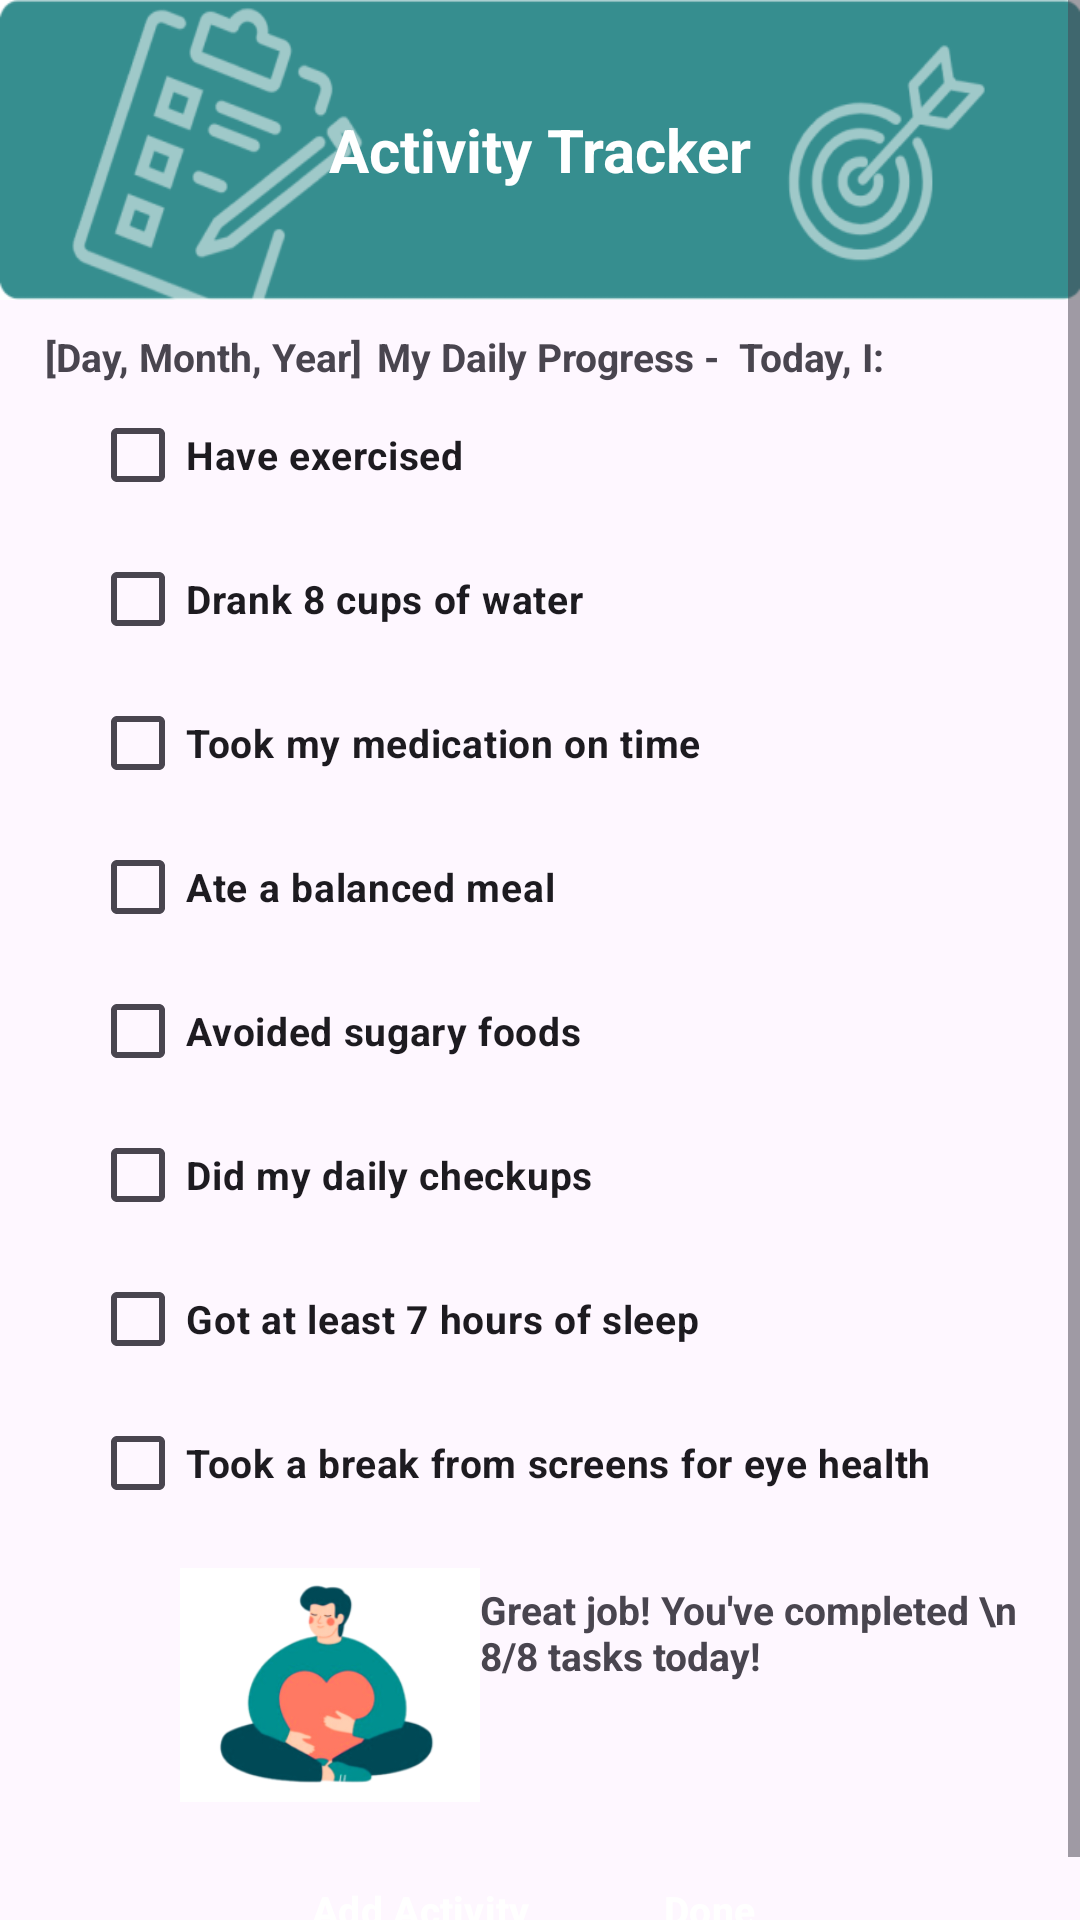

Named icons in this screenshot (1080*1920) and their bounding boxes, (x1, y1, x2, y2):
img happy: (220, 1585, 433, 1783)
